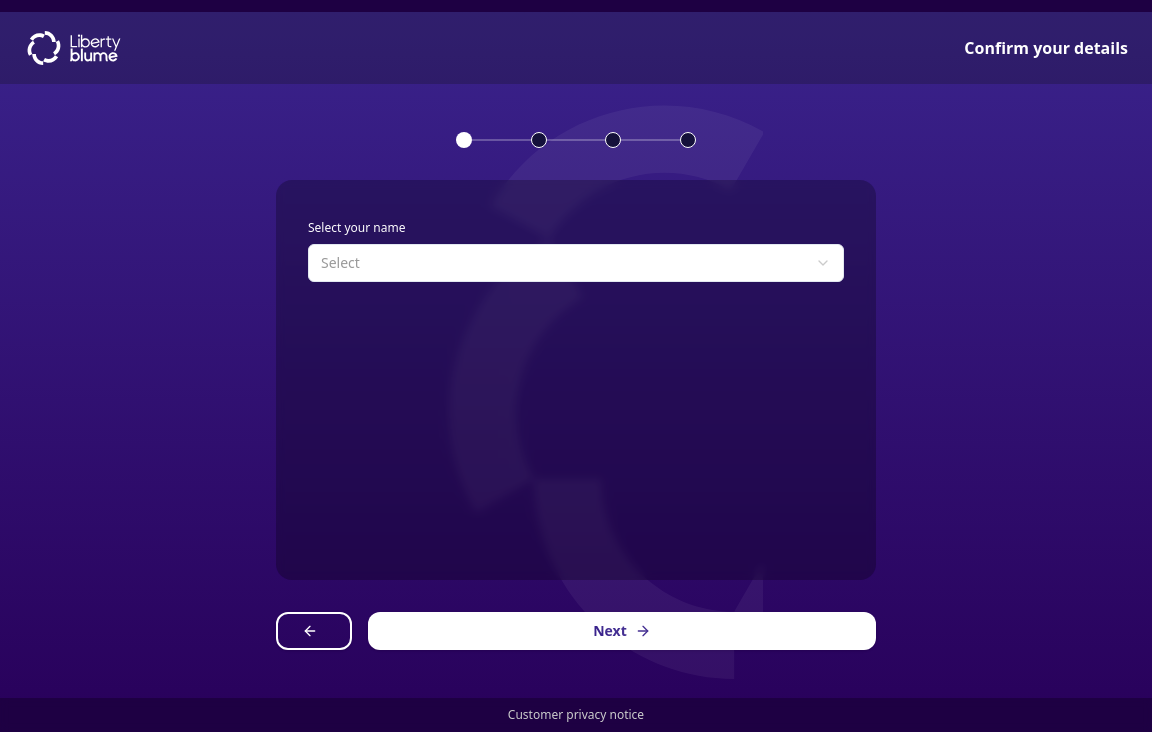
ConfirmName › handleNextClick › shows confirmNameError when signatory is selected but checkbox is unchecked
Click the dropdown.
click(340, 262)  # box [308,244,844,282]
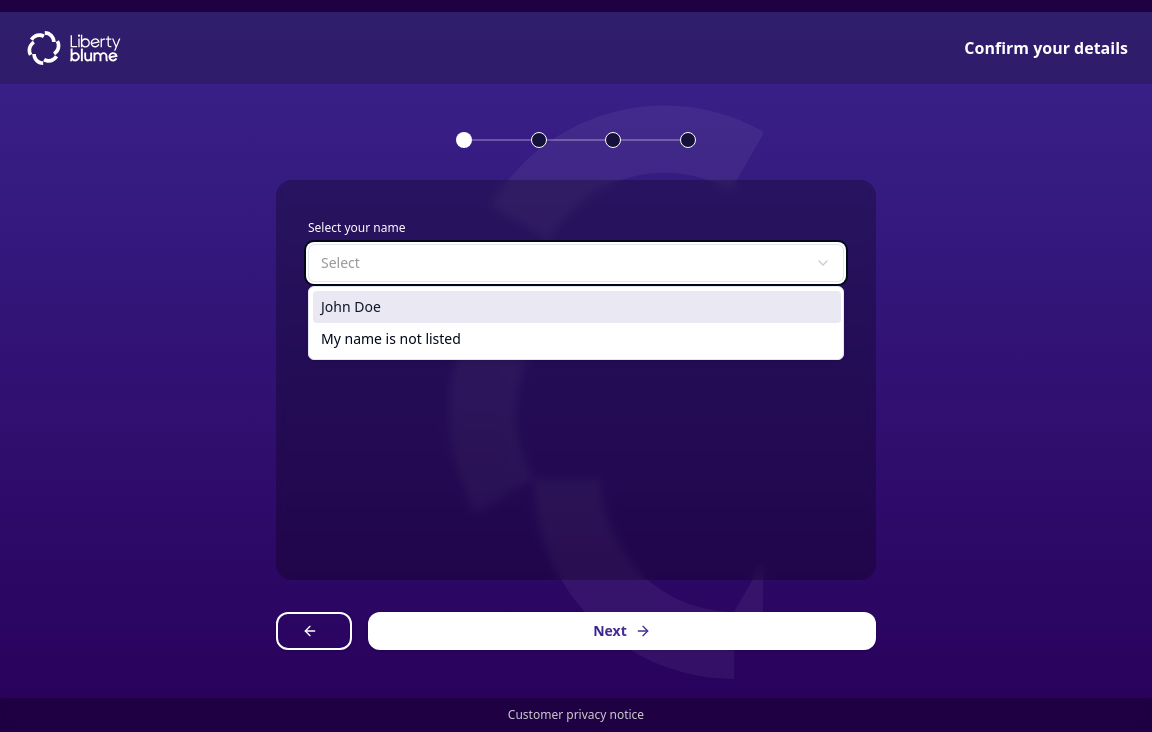
Click the option "John Doe".
click(351, 306)  # box [313,291,841,323]
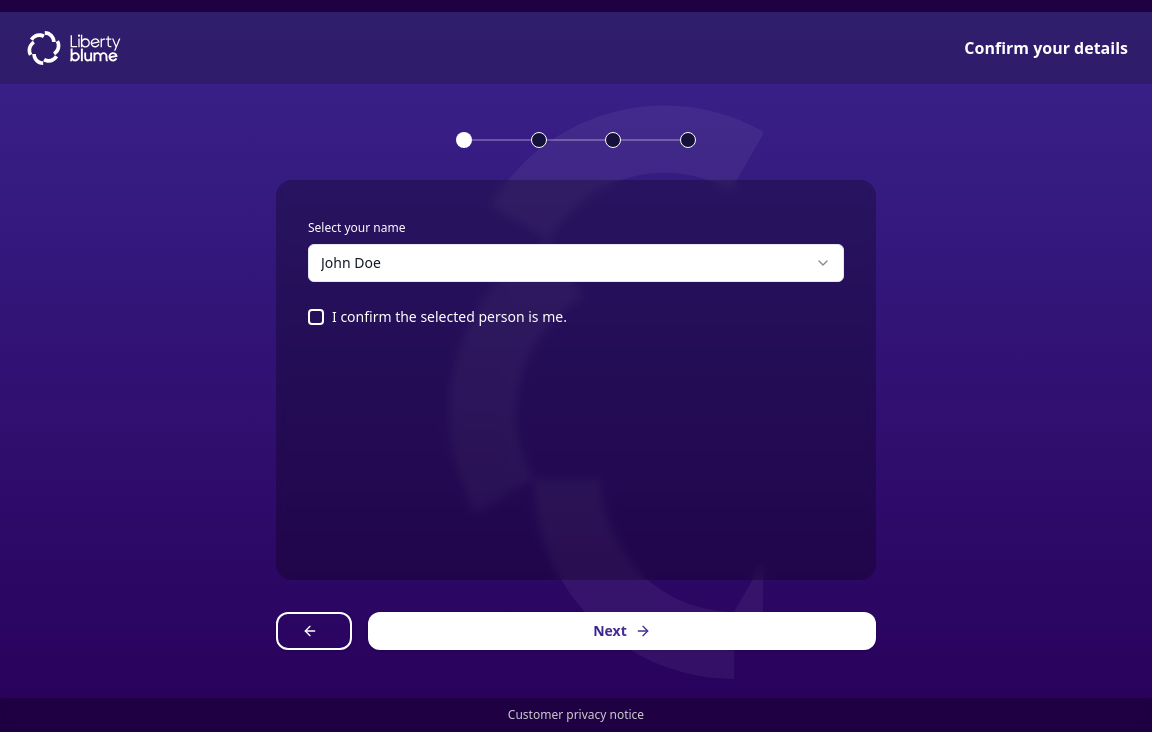
Click the button "Next".
click(622, 631)  # box [368,612,876,650]
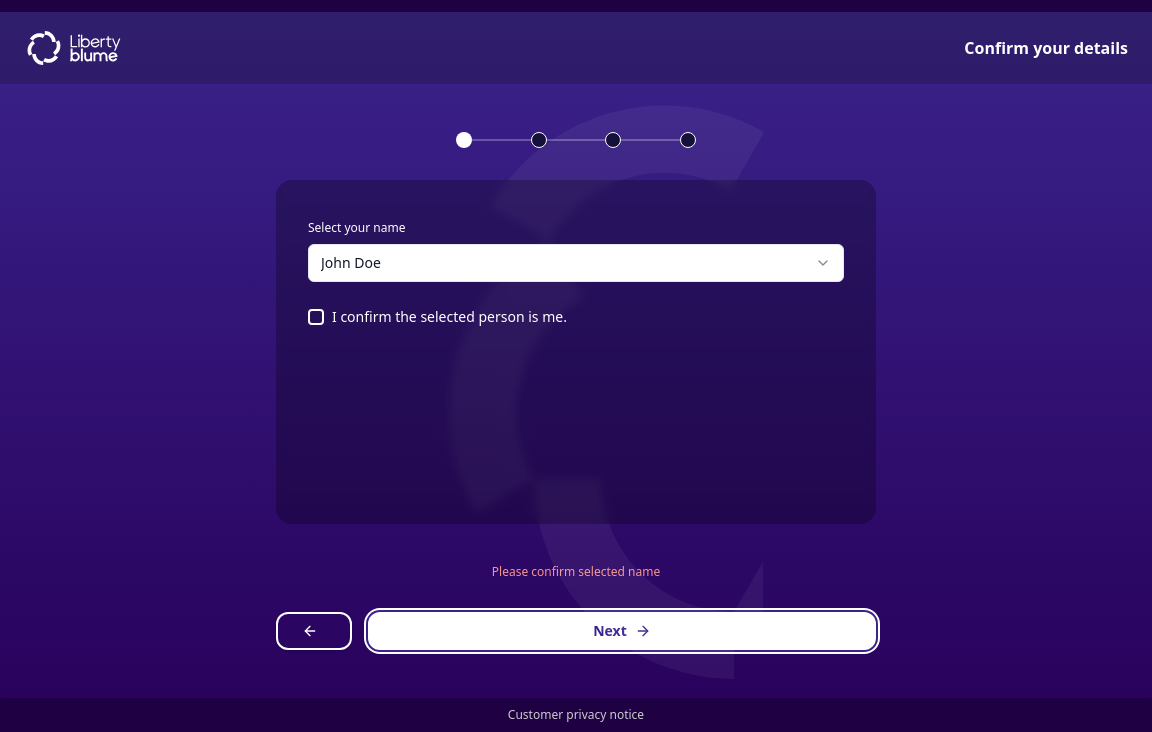
Check: the text "Please confirm selected name" is shown, box [492,563,660,580]
